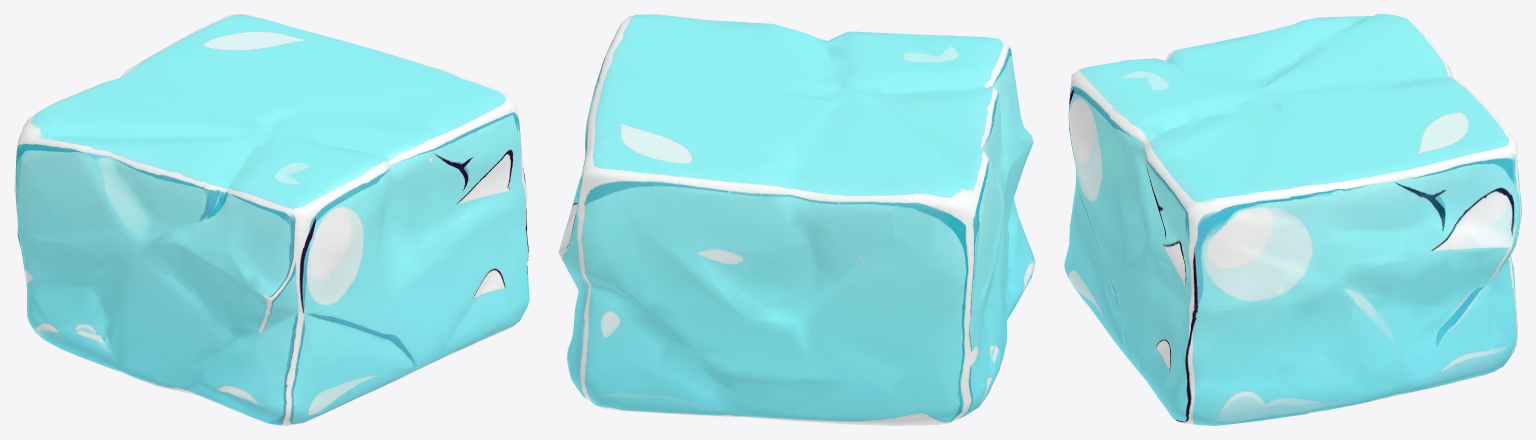
File: iceberg_low.glb
3 views of the same model, side by side, from view 1: azimuth 30°, elevation 25°; view 2: azimuth 150°, elevation 25°; view 3: azimuth 270°, elevation 25° (orthographic). The views are drawn at different scales.
Size of the model in its own units: 1.9 by 0.9672 by 1.78.
Materials: 1 (1 with a texture image).
